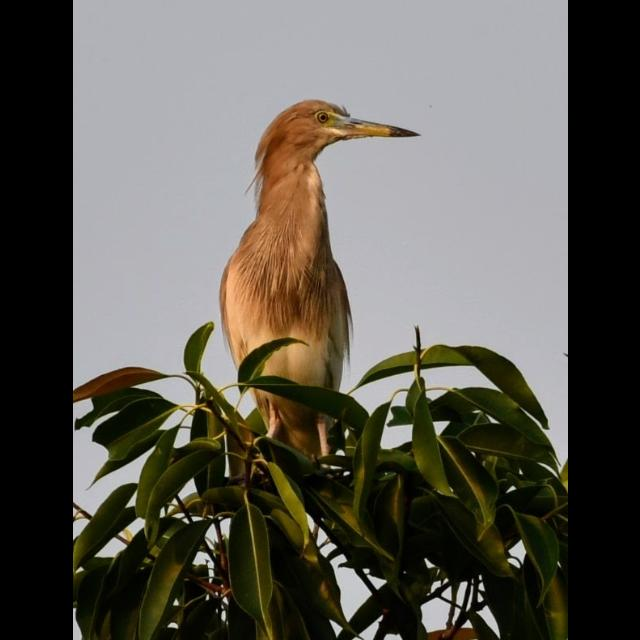heron: (202, 85, 430, 457)
